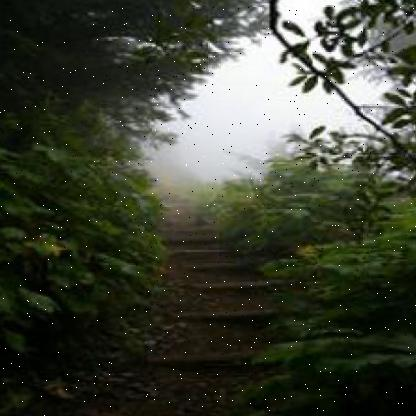stair_up: (148, 204, 273, 362)
